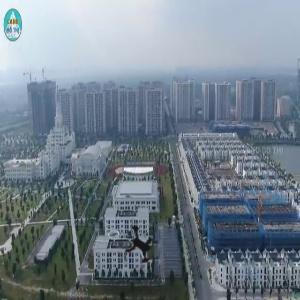drone: (101, 208, 177, 284)
